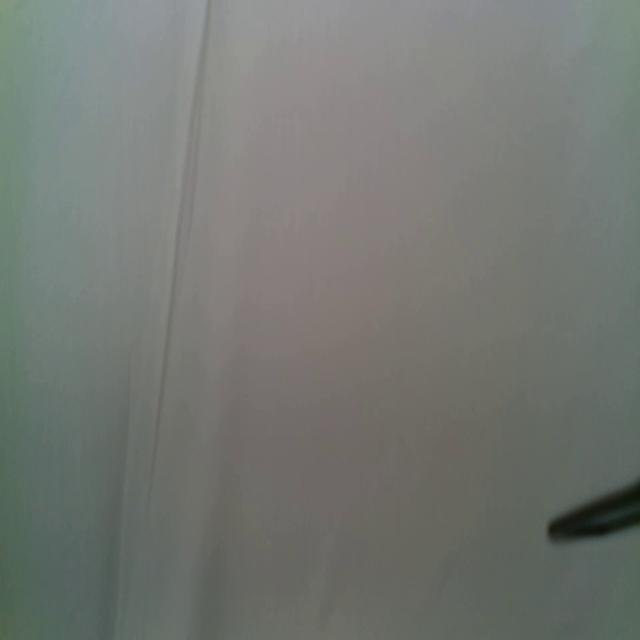crease: (146, 1, 214, 516)
